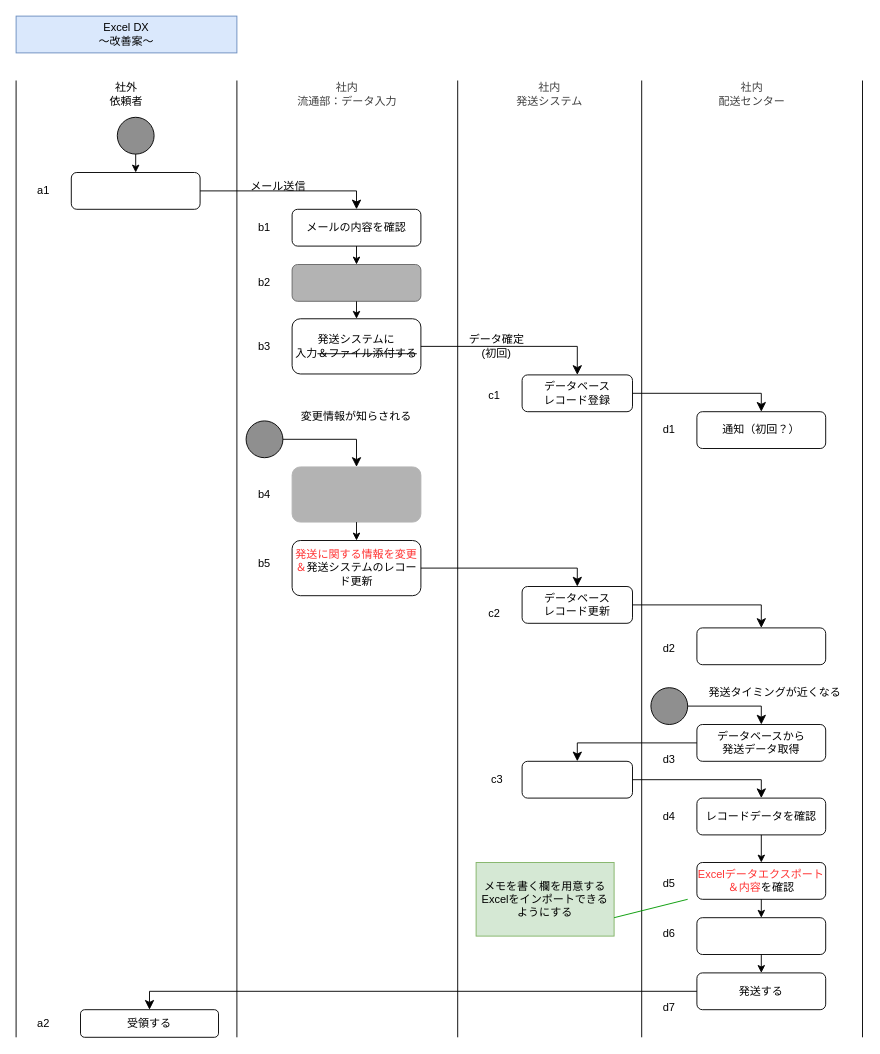
Some shapes in this 880 by 1054 pixel diagram are drawn without their labels. The shapes that lost their labels are listed below. From the top down, each one's box as (x1, y1, x2, y2) in pixels, then its label:
(70, 172, 200, 209): 発送依頼のメールを書く
(291, 264, 421, 301): Excelにデータ入力
(291, 466, 421, 522): 発送に関する情報を変更する＠Excel
(696, 627, 826, 665): 通知（２回目？）
(521, 760, 632, 798): レコード送信
(696, 917, 826, 954): 発送物を用意する
